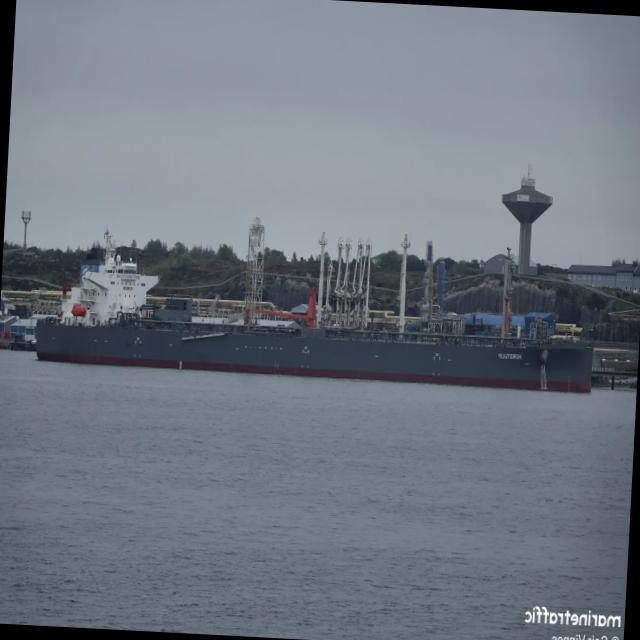Tanker: (35, 231, 593, 393)
